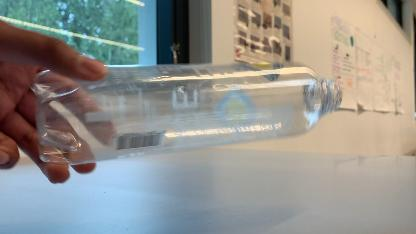Plastic Bottle: (32, 62, 342, 164)
